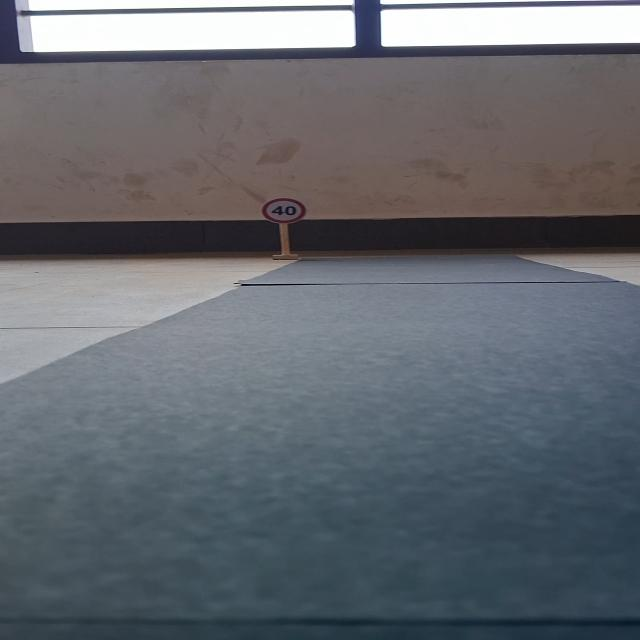Speed40: (255, 195, 313, 227)
